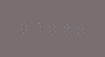eight: (57, 20, 69, 37)
seven: (31, 18, 43, 36)
zero: (44, 19, 56, 37), (70, 20, 82, 38), (18, 18, 30, 35)
